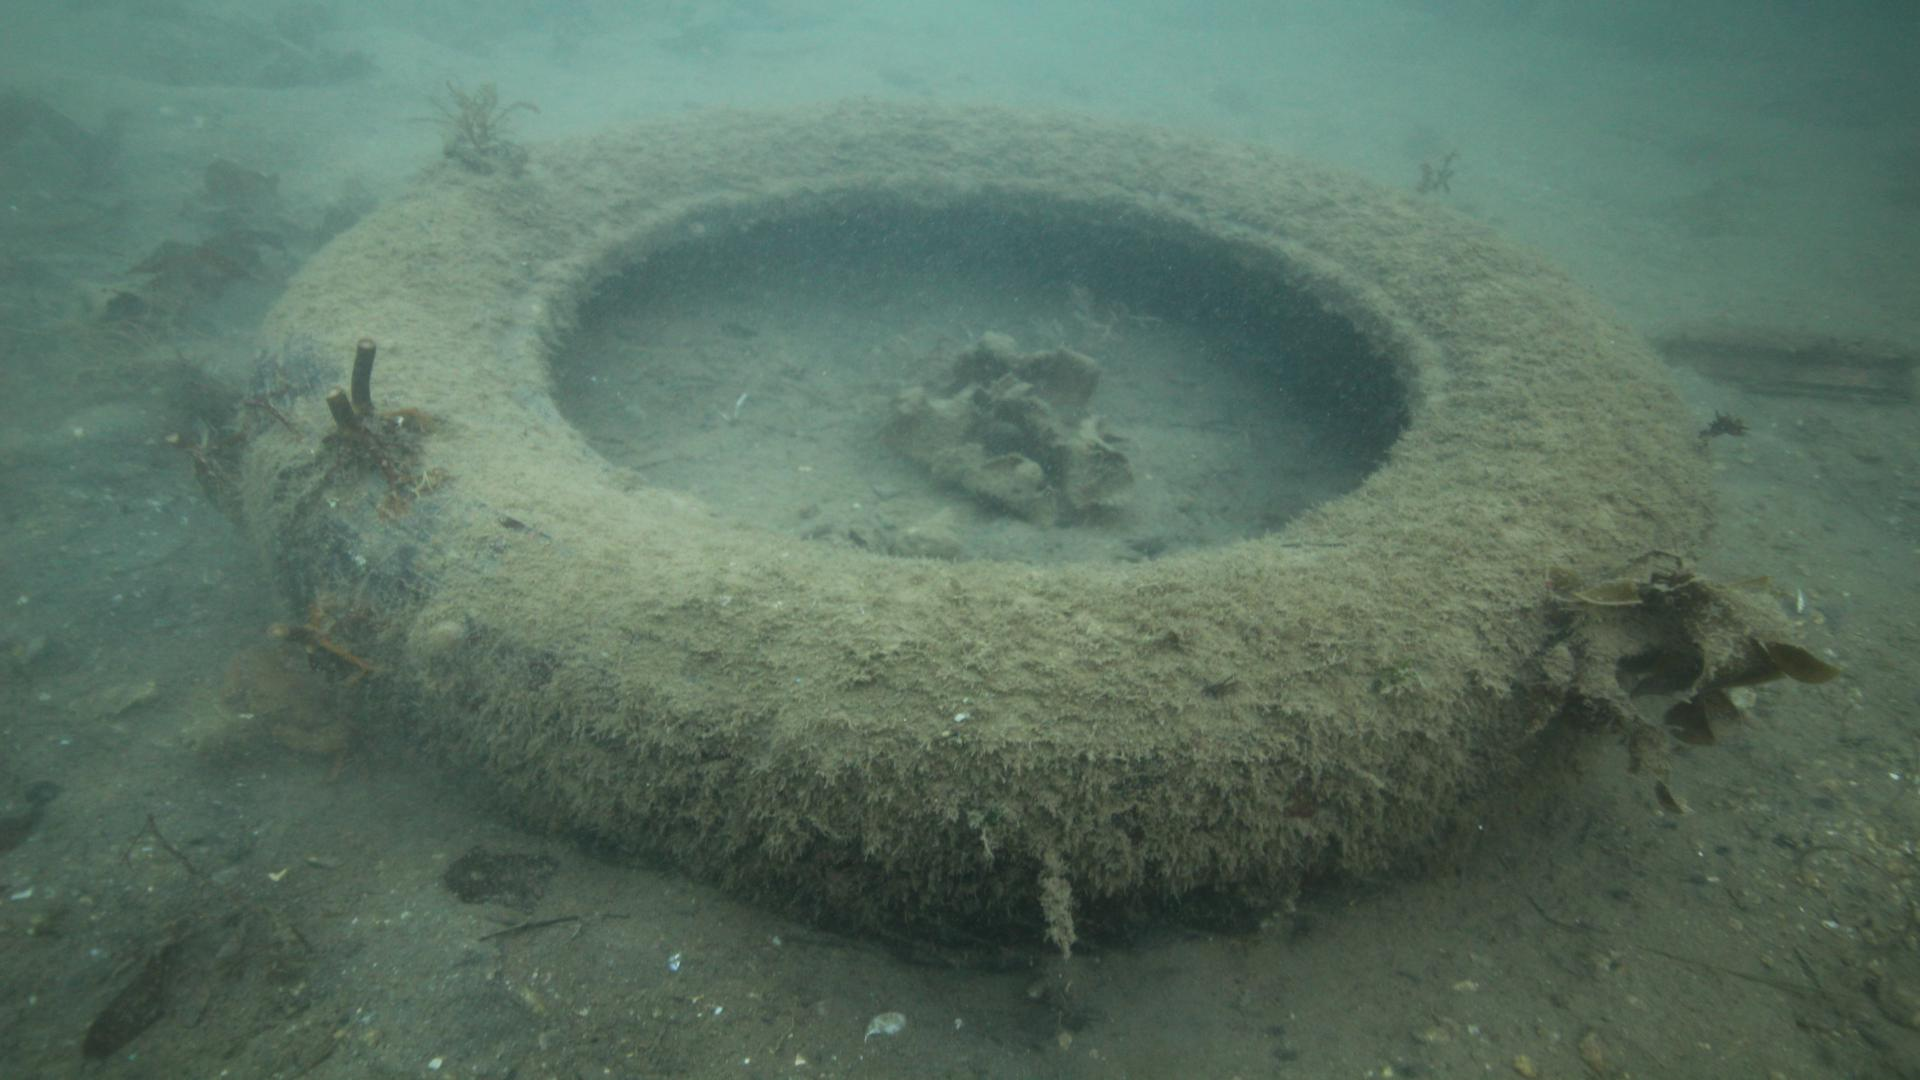tire: (237, 100, 1702, 944)
